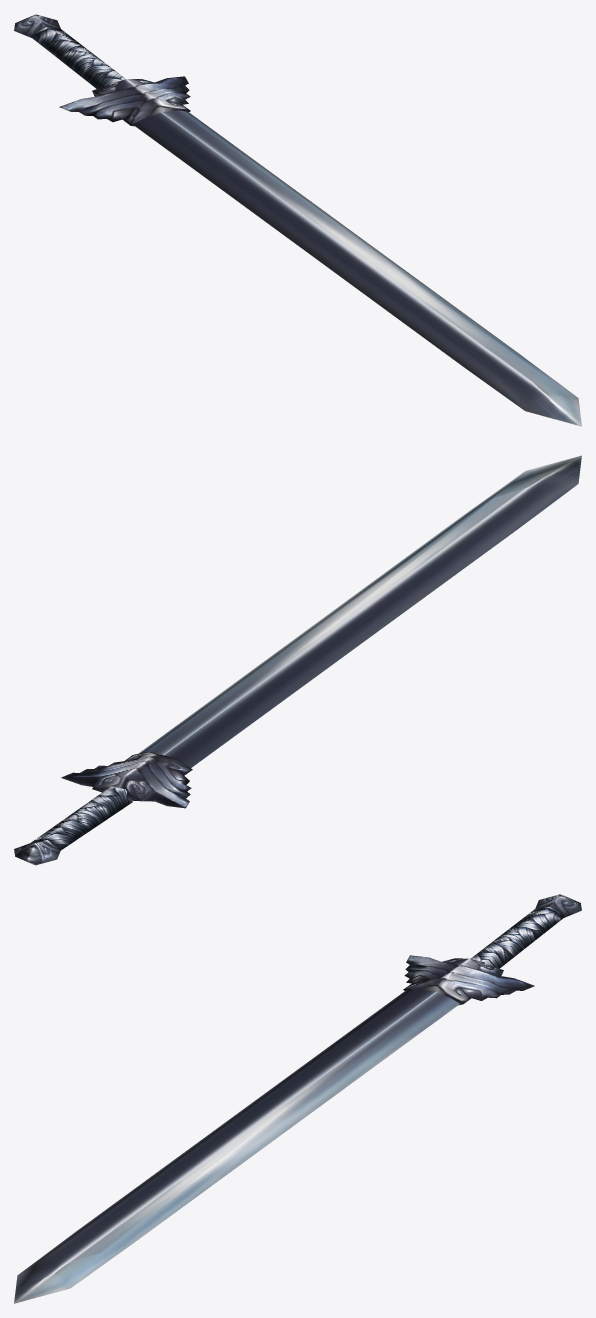
3 views of the same model, one above another, from view 1: azimuth 30°, elevation 25°; view 2: azimuth 150°, elevation 25°; view 3: azimuth 330°, elevation 25° (orthographic).
Parts seen in each view (by area): view 1: wpnLS01; view 2: wpnLS01; view 3: wpnLS01.
Boxes of the visible parts, <box> form: wpnLS01: <box>14,14,581,426</box>; wpnLS01: <box>14,455,581,865</box>; wpnLS01: <box>14,894,581,1303</box>.
Bounding box in the file's own units: 3.12 × 0.611 × 23.86.
Materials: 1 (1 with a texture image).
